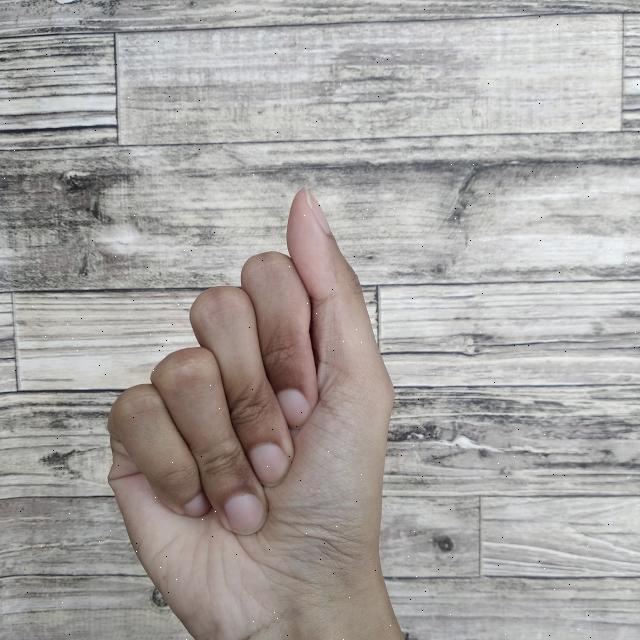A: (105, 181, 404, 640)
